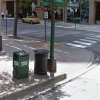crosswalk: (66, 34, 99, 47)
